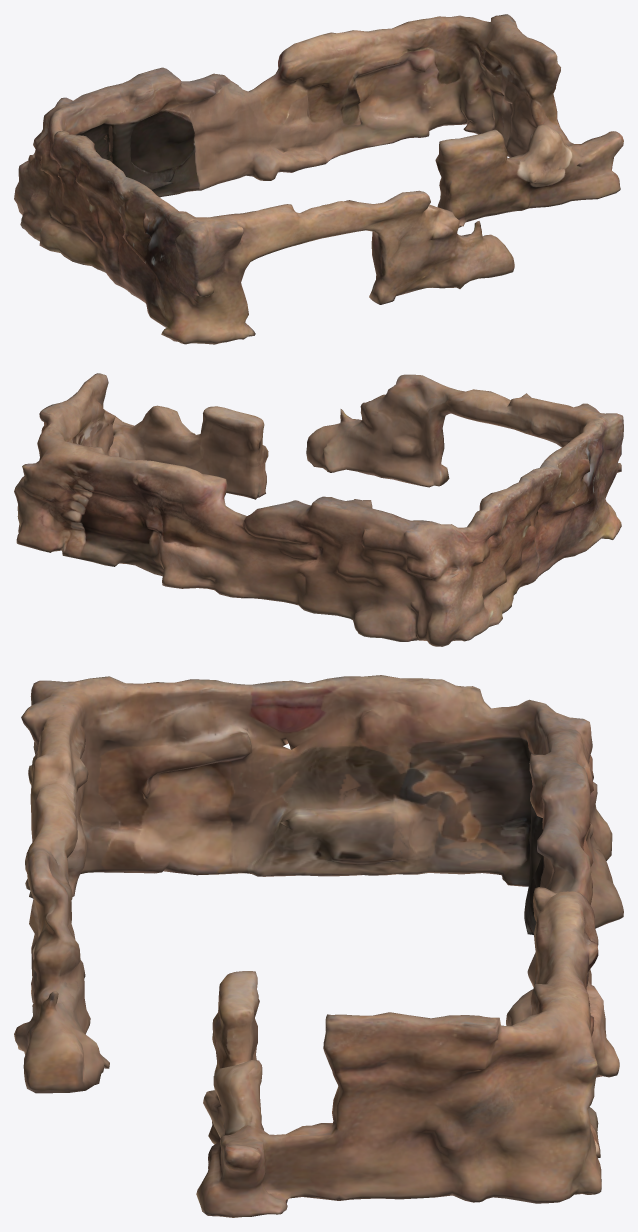
Rendered from Generate_a_mosque_0201113811_texture.fbx.
3 views of the same model, one above another, from view 1: azimuth 30°, elevation 25°; view 2: azimuth 150°, elevation 25°; view 3: azimuth 270°, elevation 25° (orthographic). The views are drawn at different scales.
Parts seen in each view (by area): view 1: Mesh1_Mesh1.139; view 2: Mesh1_Mesh1.139; view 3: Mesh1_Mesh1.139.
Boxes of the visible parts, x1=… form: Mesh1_Mesh1.139: x1=14, y1=14, x2=623, y2=344; Mesh1_Mesh1.139: x1=14, y1=373, x2=623, y2=646; Mesh1_Mesh1.139: x1=14, y1=675, x2=623, y2=1217.
Size of the model in its own units: 198 by 44.58 by 134.
Materials: 1 (1 with a texture image).
